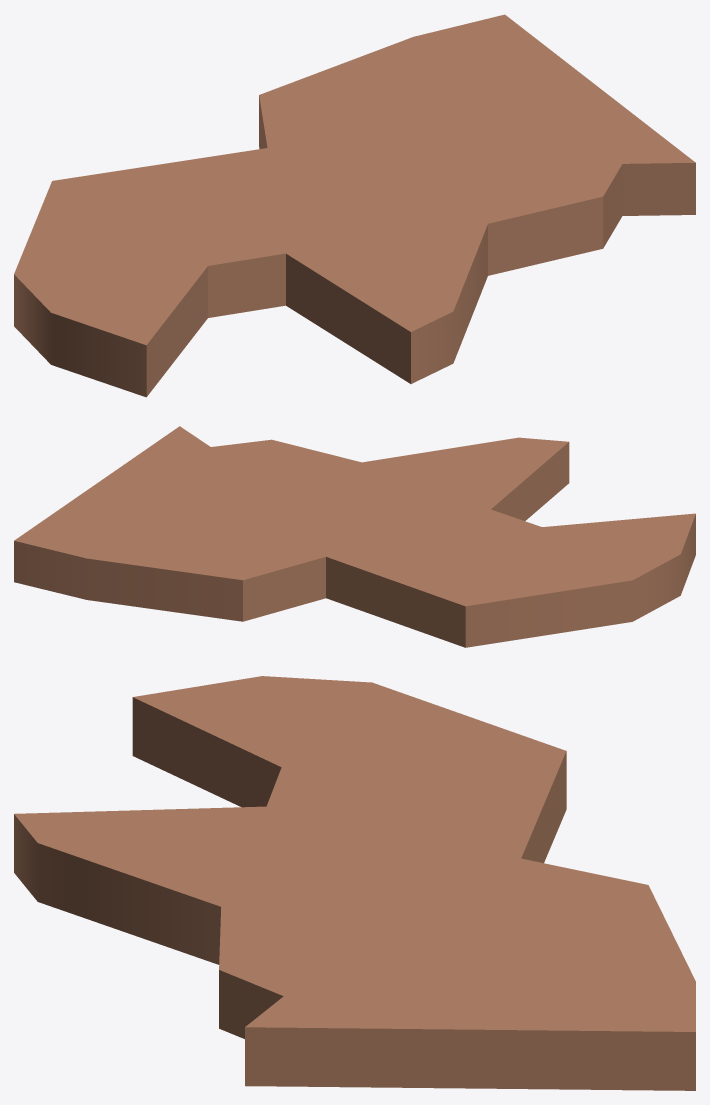
Rendered from 06 Broken_wall.FBX.
3 renders of one model, top to bottom at view 1: azimuth 30°, elevation 25°; view 2: azimuth 150°, elevation 25°; view 3: azimuth 270°, elevation 25°, orthographic. The views are drawn at different scales.
Parts seen in each view (by area): view 1: Plane022; view 2: Plane022; view 3: Plane022.
Boxes of the visible parts, <box> form: Plane022: <box>14,14,695,397</box>; Plane022: <box>14,426,695,647</box>; Plane022: <box>14,676,695,1090</box>.
Bounding box in the file's own units: 1037 × 80 × 840.
